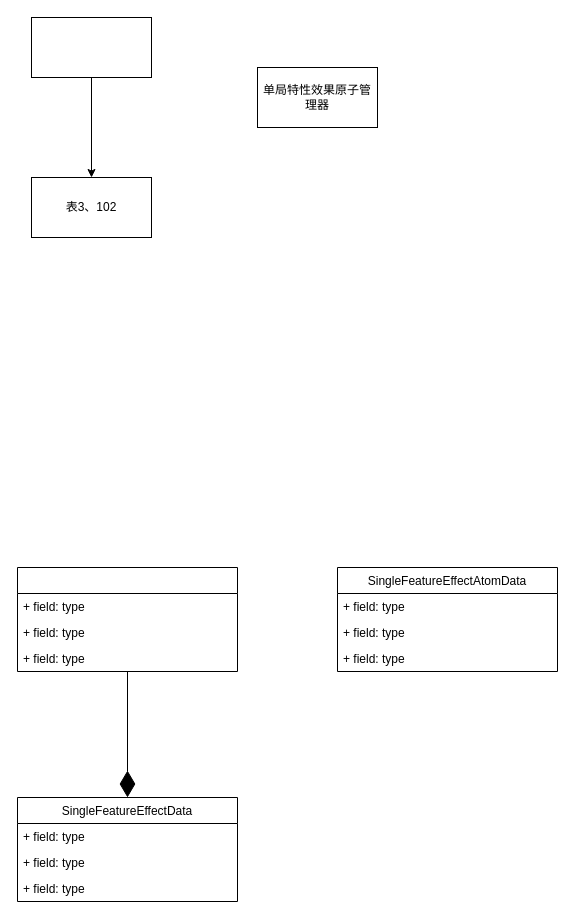
This 575x922 diagram has some shape labels left out. Each missing label, with the box of its shape:
SingleFeatureData: (16, 566, 238, 672)
查看特性具体如何实现的: (30, 16, 152, 78)
